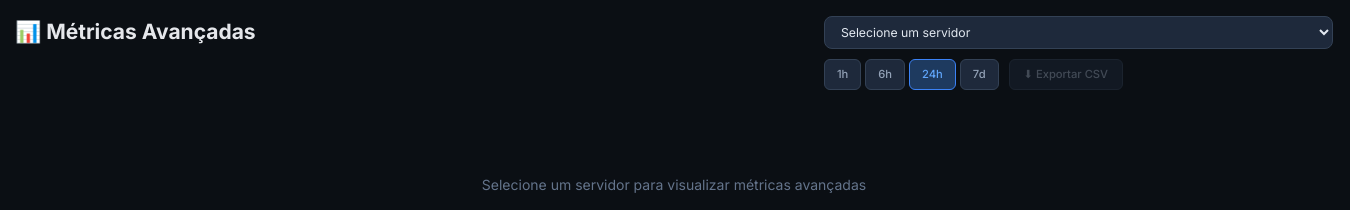
Test: AdvancedMetrics › handles empty metrics
Select "Server-1" in the dropdown. click: (1078, 32)
box: [824, 16, 1333, 49]
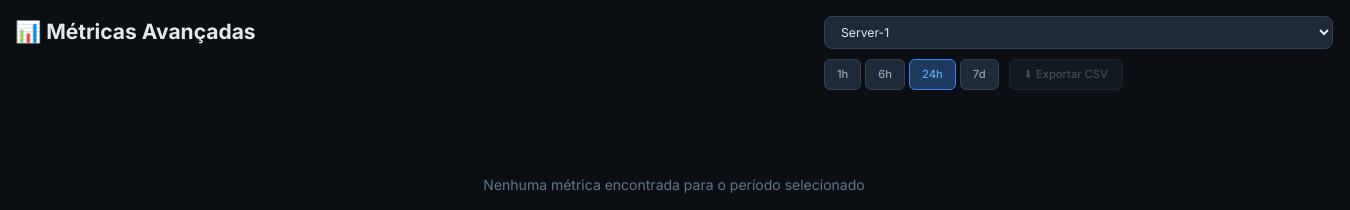
Check: the text "Nenhuma métrica encontrada para o período selecionado" is shown, box [483, 176, 865, 193]
